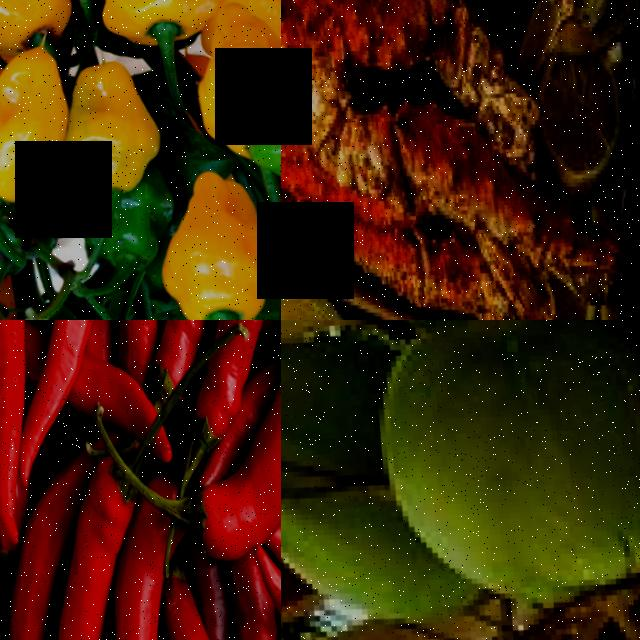chilli: (182, 376, 281, 561), (0, 320, 57, 536), (139, 320, 229, 402), (219, 543, 281, 640)
coconut: (365, 320, 640, 622), (281, 326, 407, 630)
crab: (281, 0, 563, 320)
